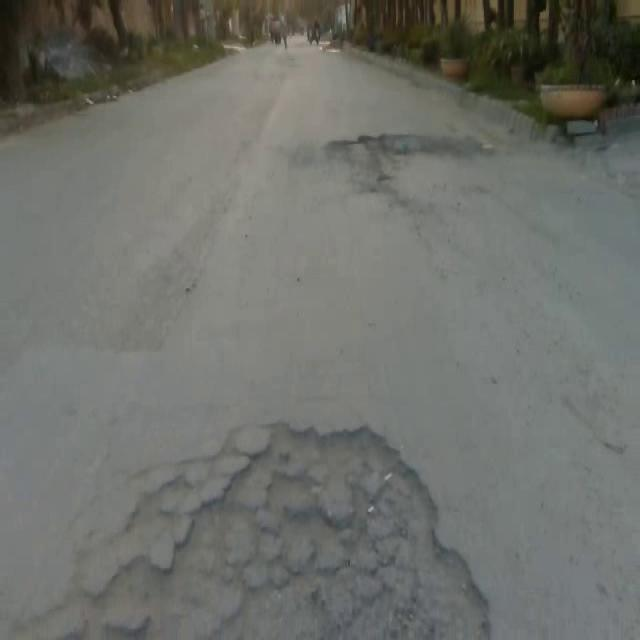pothole: (16, 420, 489, 640)
